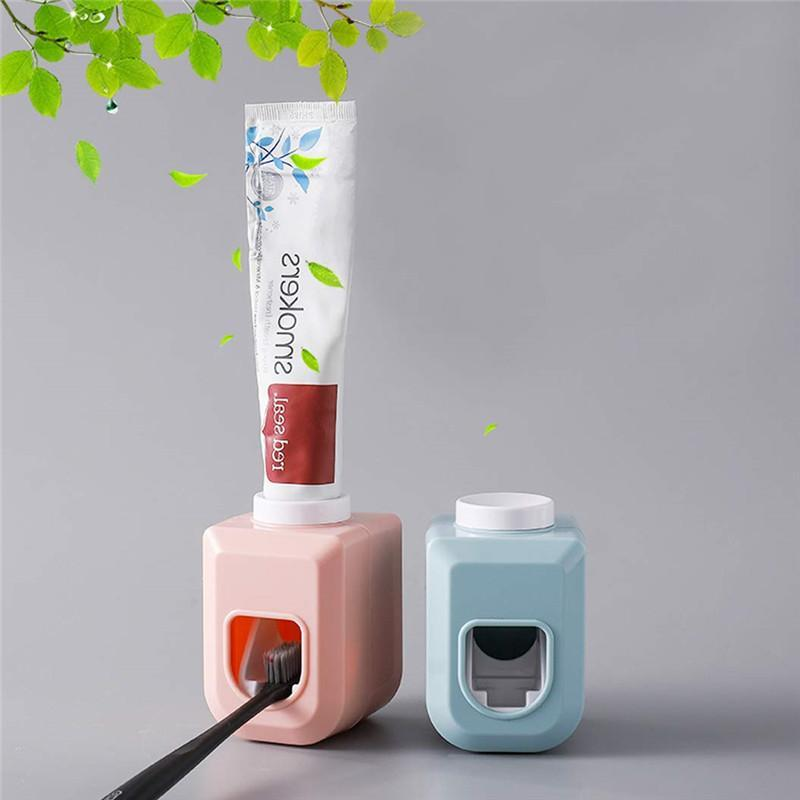toothpaste: (234, 99, 369, 502)
